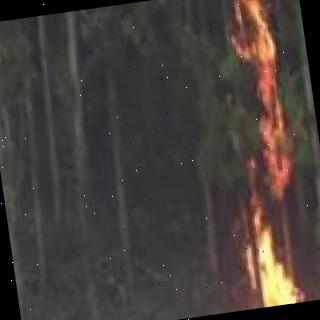fire: (143, 0, 320, 317)
